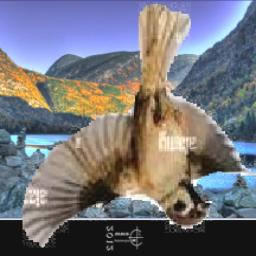Sparrow: (23, 2, 256, 248)
